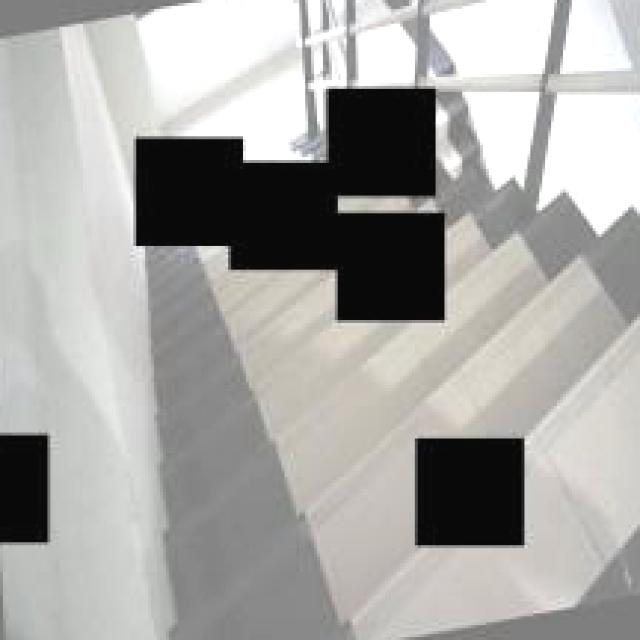downstair: (146, 344, 415, 640)
